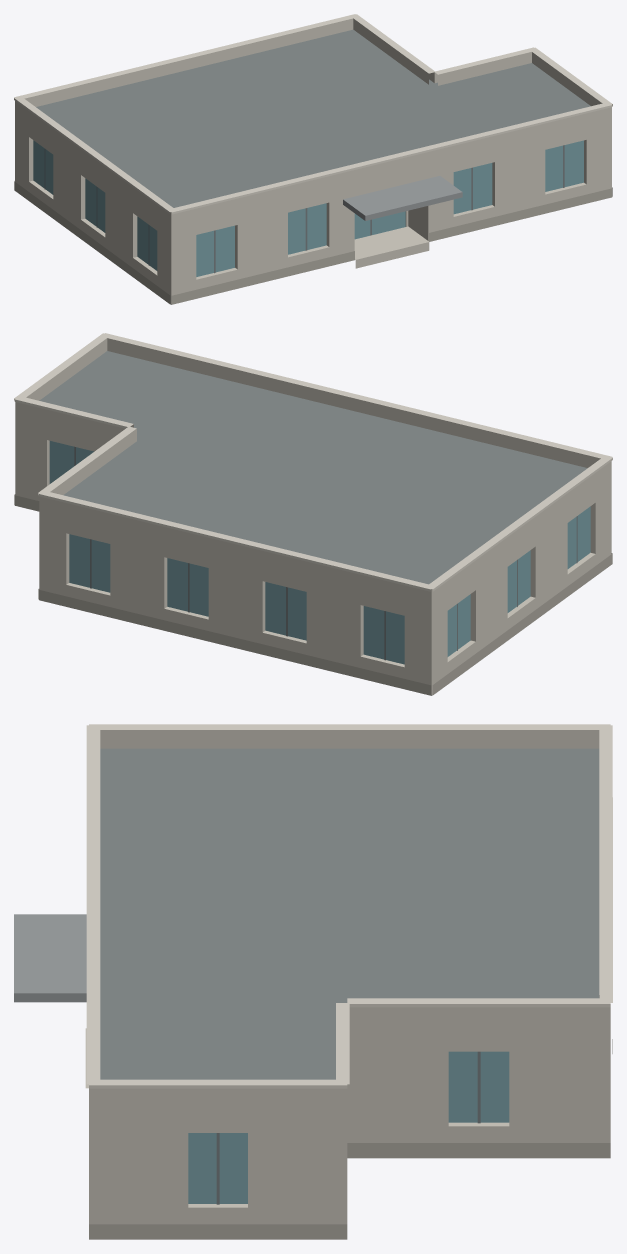
The picture shows the model from 3 angles, top to bottom: view 1: azimuth 30°, elevation 25°; view 2: azimuth 150°, elevation 25°; view 3: azimuth 270°, elevation 25°; orthographic projection. The views are drawn at different scales.
Visible parts, largest first — view 1: aux764320683__roof, aux764320683__wall, aux764320683__parapet, aux764320683__glass, aux764320683__trim, aux764320683__base, aux764320683__canopy, aux764320683__entranceThreshold_0, aux764320683__frame; view 2: aux764320683__roof, aux764320683__wall, aux764320683__parapet, aux764320683__glass, aux764320683__trim, aux764320683__base, aux764320683__frame; view 3: aux764320683__roof, aux764320683__wall, aux764320683__trim, aux764320683__parapet, aux764320683__glass, aux764320683__base, aux764320683__canopy.
Boxes of the visible parts, x1=… form: aux764320683__roof: x1=36, y1=29, x2=590, y2=304; aux764320683__wall: x1=15, y1=109, x2=611, y2=304; aux764320683__parapet: x1=15, y1=18, x2=611, y2=222; aux764320683__glass: x1=33, y1=140, x2=583, y2=276; aux764320683__trim: x1=14, y1=14, x2=612, y2=214; aux764320683__base: x1=14, y1=181, x2=612, y2=304; aux764320683__canopy: x1=343, y1=176, x2=462, y2=220; aux764320683__entranceThreshold_0: x1=354, y1=226, x2=429, y2=268; aux764320683__frame: x1=44, y1=145, x2=564, y2=273; aux764320683__roof: x1=39, y1=351, x2=587, y2=695; aux764320683__wall: x1=15, y1=411, x2=611, y2=695; aux764320683__parapet: x1=15, y1=338, x2=611, y2=601; aux764320683__glass: x1=49, y1=441, x2=590, y2=664; aux764320683__trim: x1=14, y1=333, x2=612, y2=591; aux764320683__base: x1=14, y1=494, x2=612, y2=695; aux764320683__frame: x1=74, y1=446, x2=577, y2=660; aux764320683__roof: x1=100, y1=748, x2=599, y2=1079; aux764320683__wall: x1=89, y1=1021, x2=610, y2=1224; aux764320683__trim: x1=86, y1=724, x2=612, y2=1088; aux764320683__parapet: x1=89, y1=730, x2=610, y2=1102; aux764320683__glass: x1=188, y1=1051, x2=509, y2=1203; aux764320683__base: x1=89, y1=1039, x2=612, y2=1239; aux764320683__canopy: x1=14, y1=914, x2=86, y2=1002.
Size of the model in its own units: 22.79 by 4.95 by 15.98.
